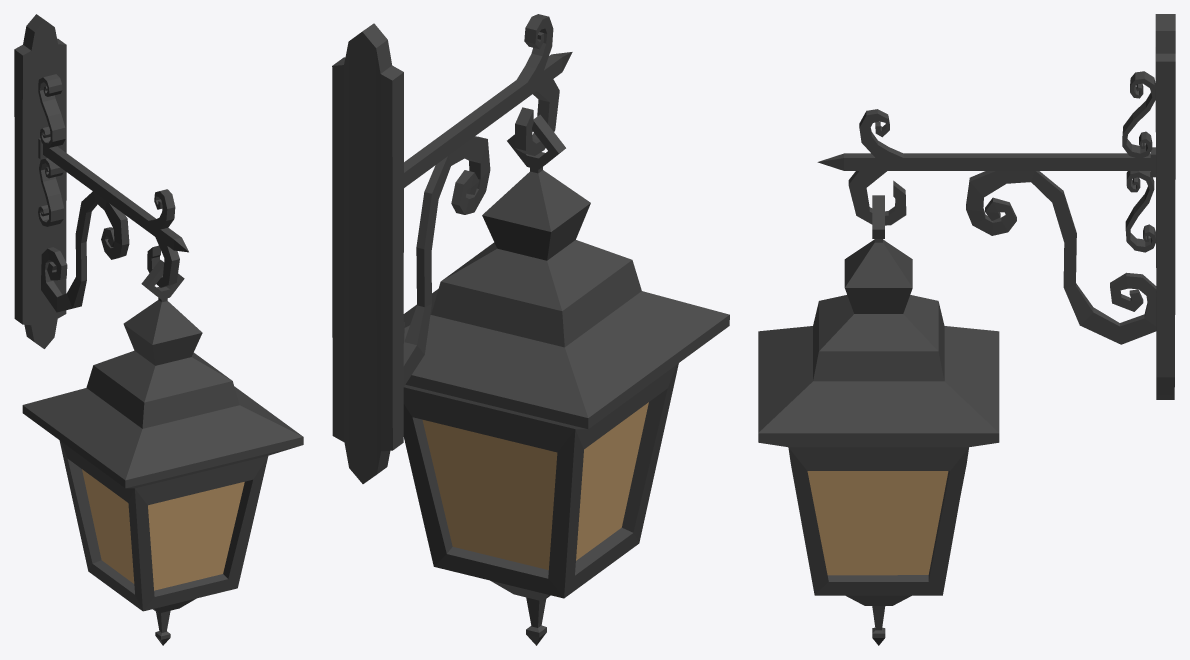
The model's file is lamp1.gltf.
3 renders of one model, left to right at view 1: azimuth 30°, elevation 25°; view 2: azimuth 150°, elevation 25°; view 3: azimuth 270°, elevation 25°, orthographic. The views are drawn at different scales.
Visible parts, largest first — view 1: lamp1; view 2: lamp1; view 3: lamp1.
Part boxes in pixels (<box>): lamp1: <box>14,14,303,645</box>; lamp1: <box>332,14,729,645</box>; lamp1: <box>758,14,1175,645</box>.
Bounding box in the file's own units: 0.4963 × 1.44 × 0.8595.
